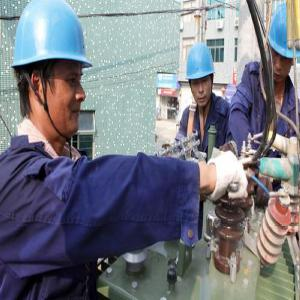blue: (17, 4, 89, 142), (267, 5, 300, 84), (187, 41, 217, 112)
